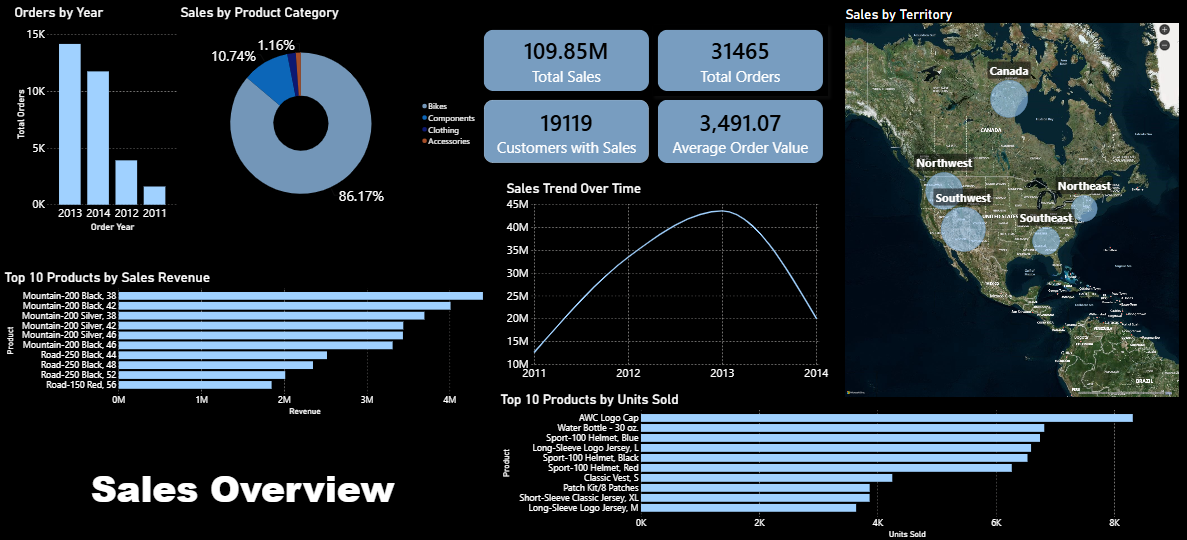

The dashboard page shown, as its layout file describes it:
{"tool":"powerbi","page":{"name":"Page 1","canvas":[4300,4000],"ordinal":0},"visuals":[{"type":"lineChart","title":"Sales Trend Over Time","fields":{"Y":["Sales SalesOrderDetail.Total Sales"],"Category":["Sales SalesOrderHeader.Order Year"]},"box":[1832.1,1107.1,1160.7,725],"z":0},{"type":"columnChart","title":"Orders by Year","fields":{"Category":["Sales SalesOrderHeader.Order Year"],"Y":["Sales SalesOrderHeader.Total Orders"]},"box":[75,478.6,592.9,817.9],"z":1000},{"type":"clusteredBarChart","title":"Top 10  Products by Sales Revenue","fields":{"Category":["Production Product.Name"],"Y":["Sales SalesOrderDetail.Total Sales"]},"box":[39.3,1425,1771.4,528.6],"z":2000},{"type":"clusteredBarChart","title":"Top 10 Products by Units Sold ","fields":{"Y":["Sales SalesOrderDetail.Units Sold"],"Category":["Production Product.Name"]},"box":[1810.7,1860.7,2432.1,532.1],"z":3000},{"type":"donutChart","title":"Sales by Product Category","fields":{"Category":["Production ProductCategory.Name"],"Y":["Sales SalesOrderDetail.Total Sales"]},"box":[667.9,478.6,1071.4,796.4],"z":4000},{"type":"map","title":"Sales by Territory","fields":{"Size":["Sales SalesOrderDetail.Total Sales"],"Category":["Sales SalesTerritory.Name"]},"box":[3044.4,485.2,1200,1400],"z":5000},{"type":"cardVisual","fields":{"Data":["Sales SalesOrderDetail.Total Sales"]},"box":[1739.3,553.6,625,253.6],"z":6000},{"type":"cardVisual","title":"gjghg","fields":{"Data":["Sales SalesOrderHeader.Total Orders"]},"box":[2360.7,553.6,625,253.6],"z":7000},{"type":"cardVisual","fields":{"Data":["Sales Customer.Customers with Sales"]},"box":[1739.3,803.6,625,260.7],"z":8000},{"type":"cardVisual","fields":{"Data":["Sales SalesOrderHeader.Average Order Value"]},"box":[2360.7,803.6,625,260.7],"z":9000},{"type":"textbox","title":"Sales Analytics Dashboard","box":[0,2110.7,1789.3,196.4],"z":10000}]}

Visuals, with their boxes on the page's 4300x4000 design canvas (x1, y1, x2, y2). These are canvas units, not pixel positions in the 1187x540 screenshot, which may show the page scaled, cropped or inside an application window:
"Sales Trend Over Time" lineChart: [x1=1832, y1=1107, x2=2993, y2=1832]
"Orders by Year" columnChart: [x1=75, y1=479, x2=668, y2=1296]
"Top 10  Products by Sales Revenue" clusteredBarChart: [x1=39, y1=1425, x2=1811, y2=1954]
"Top 10 Products by Units Sold " clusteredBarChart: [x1=1811, y1=1861, x2=4243, y2=2393]
"Sales by Product Category" donutChart: [x1=668, y1=479, x2=1739, y2=1275]
"Sales by Territory" map: [x1=3044, y1=485, x2=4244, y2=1885]
cardVisual - Sales SalesOrderDetail.Total Sales: [x1=1739, y1=554, x2=2364, y2=807]
"gjghg" cardVisual: [x1=2361, y1=554, x2=2986, y2=807]
cardVisual - Sales Customer.Customers with Sales: [x1=1739, y1=804, x2=2364, y2=1064]
cardVisual - Sales SalesOrderHeader.Average Order Value: [x1=2361, y1=804, x2=2986, y2=1064]
"Sales Analytics Dashboard" textbox: [x1=0, y1=2111, x2=1789, y2=2307]
